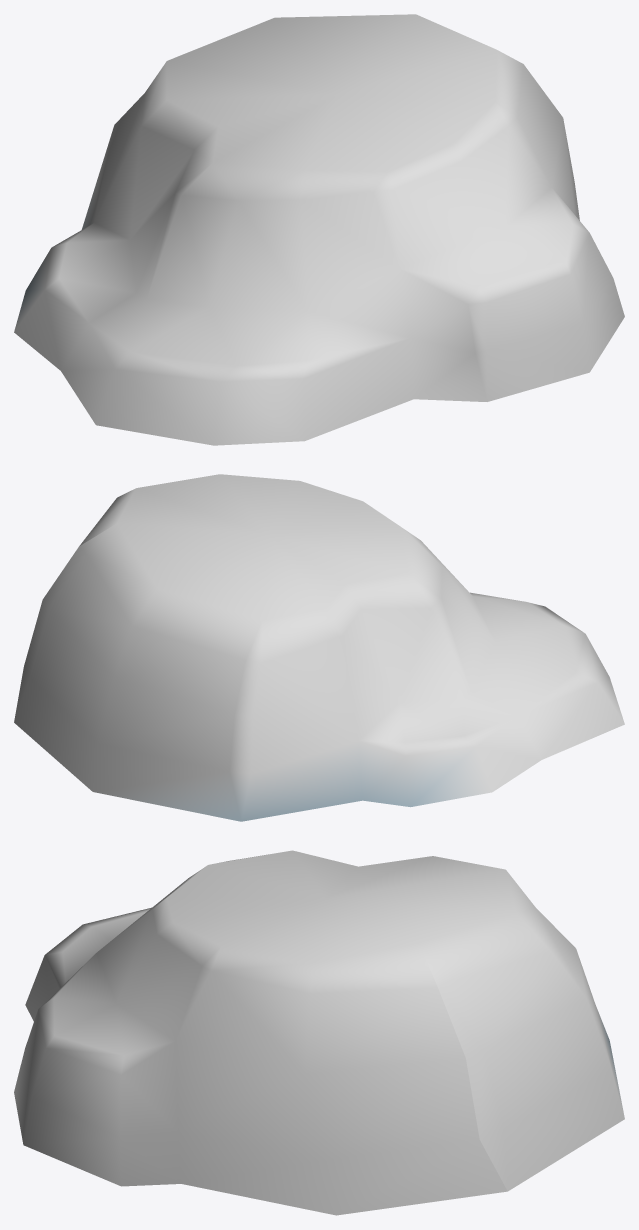
The model's file is rock-dirt-c.glb.
3 renders of one model, top to bottom at view 1: azimuth 30°, elevation 25°; view 2: azimuth 150°, elevation 25°; view 3: azimuth 270°, elevation 25°, orthographic. The views are drawn at different scales.
Parts seen in each view (by area): view 1: rock-dirt-c; view 2: rock-dirt-c; view 3: rock-dirt-c.
Boxes of the visible parts, x1,y1,x2,y2 form: rock-dirt-c: [14, 14, 624, 445]; rock-dirt-c: [14, 474, 624, 821]; rock-dirt-c: [14, 850, 624, 1215].
Bounding box in the file's own units: 1.04 × 0.3675 × 0.9565.
